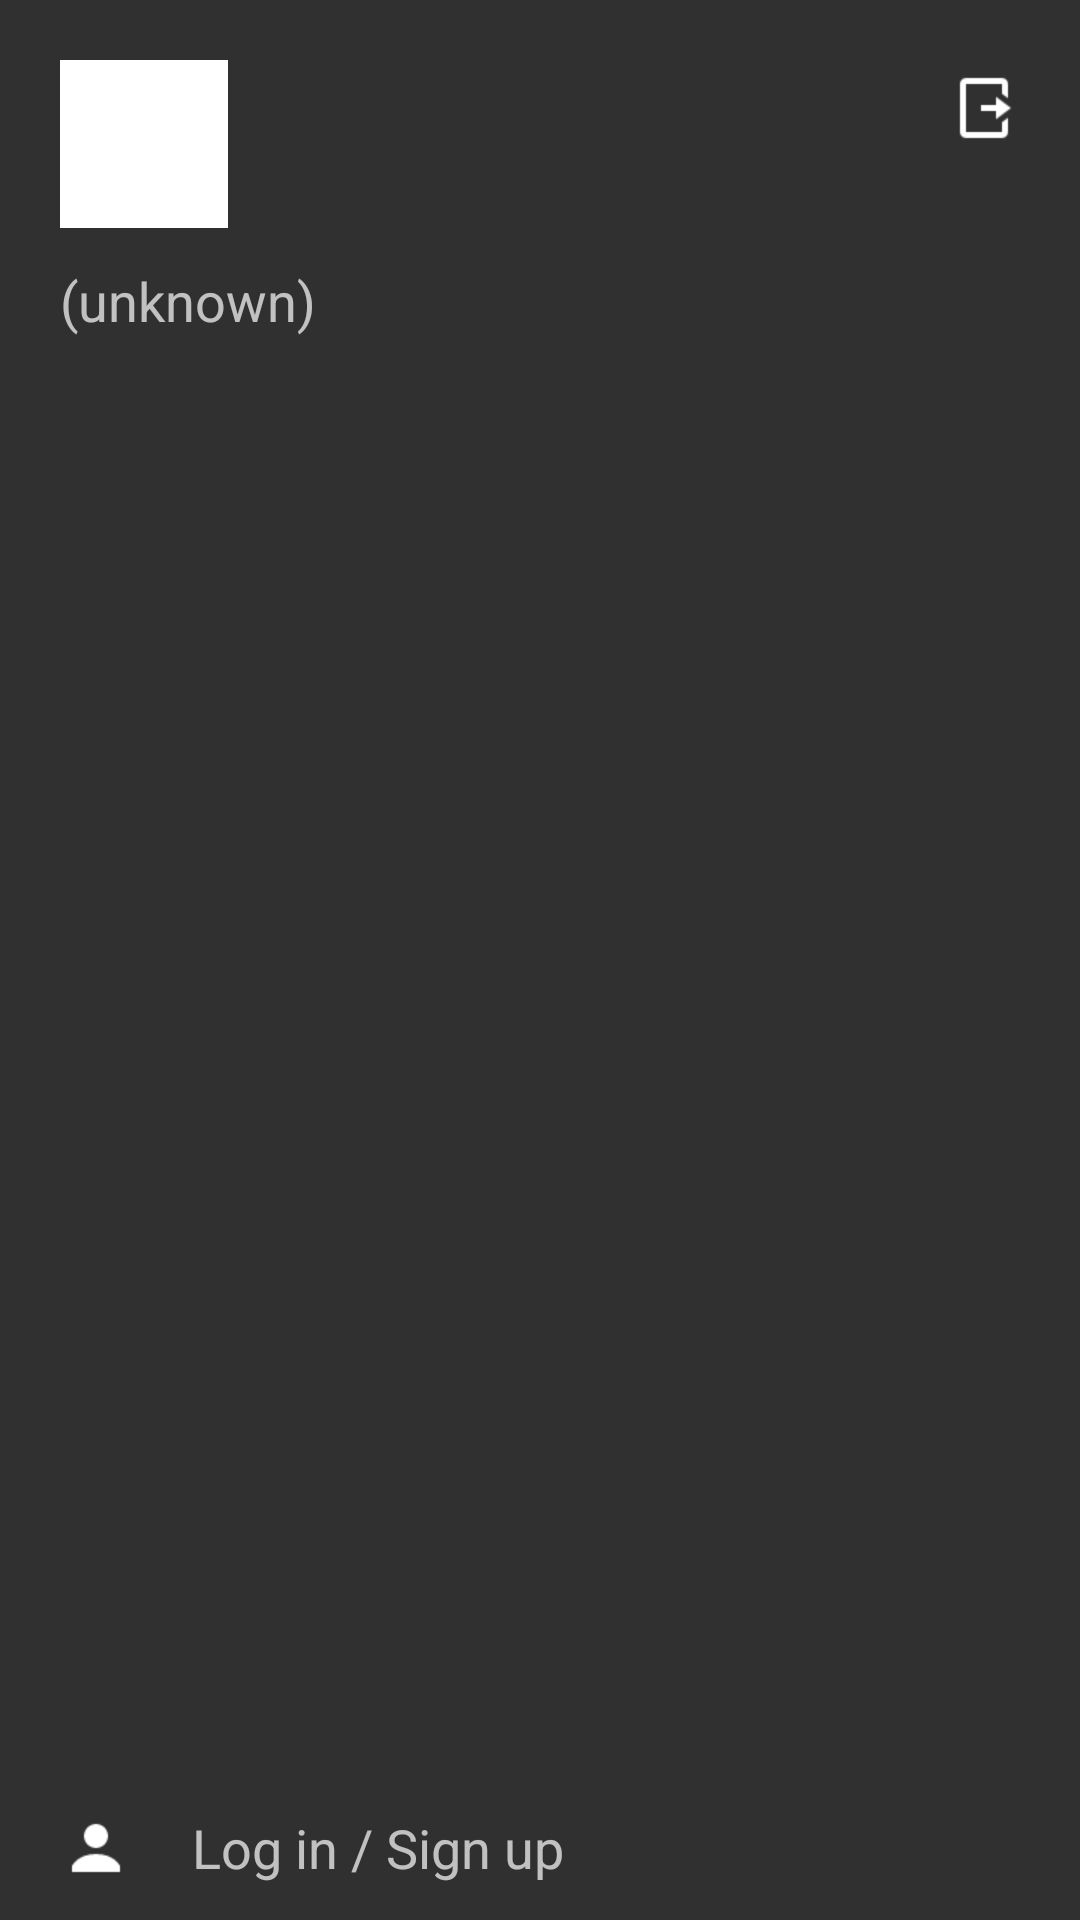

Icons on this 1080 x 1920 Android screen, each with its box as (x1, y1, x2, y2):
user: (71, 1823, 121, 1873)
